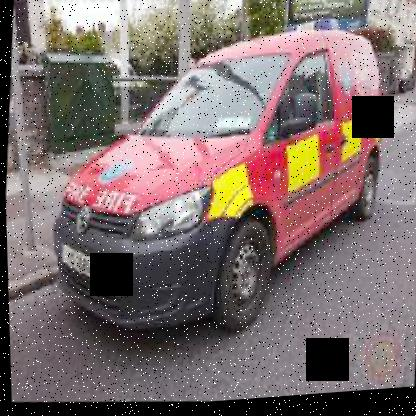emergency: (39, 17, 399, 347)
